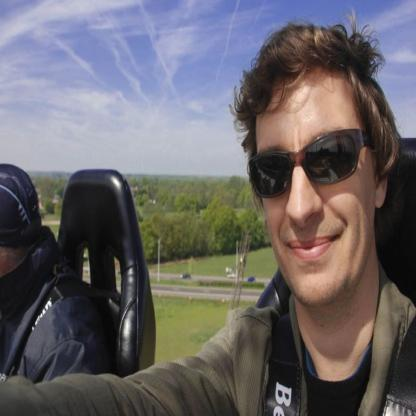Helmet: (0, 174, 38, 251)
